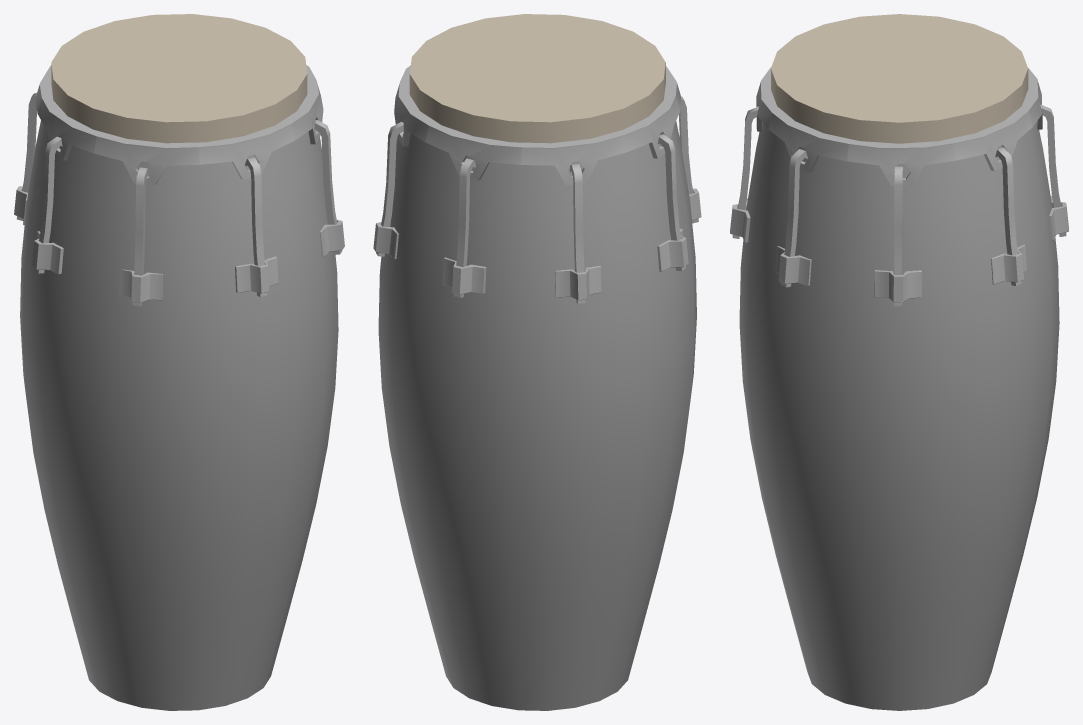
File: drum.fbx
The picture shows the model from 3 angles, left to right: view 1: azimuth 30°, elevation 25°; view 2: azimuth 150°, elevation 25°; view 3: azimuth 270°, elevation 25°; orthographic projection.
Visible parts, largest first — view 1: pCylinder10, pCylinder11, polySurface4, pCube9 (×5), pCube10 (×4); view 2: pCylinder10, pCylinder11, polySurface4, pCube9 (×5), pCube10 (×4); view 3: pCylinder10, pCylinder11, polySurface4, pCube9 (×5), pCube10 (×5).
Part boxes in pixels (x1=…): pCylinder10: x1=20, y1=120, x2=338, y2=710; pCylinder11: x1=51, y1=14, x2=307, y2=143; polySurface4: x1=35, y1=65, x2=323, y2=185; pCube9 (×5): x1=16, y1=93, x2=342, y2=306; pCube10 (×4): x1=32, y1=219, x2=344, y2=302; pCylinder10: x1=378, y1=121, x2=696, y2=710; pCylinder11: x1=409, y1=14, x2=665, y2=143; polySurface4: x1=394, y1=65, x2=681, y2=184; pCube9 (×5): x1=376, y1=96, x2=698, y2=303; pCube10 (×4): x1=373, y1=222, x2=688, y2=300; pCylinder10: x1=739, y1=122, x2=1059, y2=710; pCylinder11: x1=771, y1=14, x2=1028, y2=143; polySurface4: x1=756, y1=67, x2=1042, y2=186; pCube9 (×5): x1=732, y1=104, x2=1066, y2=306; pCube10 (×5): x1=730, y1=195, x2=1068, y2=302.
Size of the model in its own units: 4.06 by 7.97 by 4.06.
